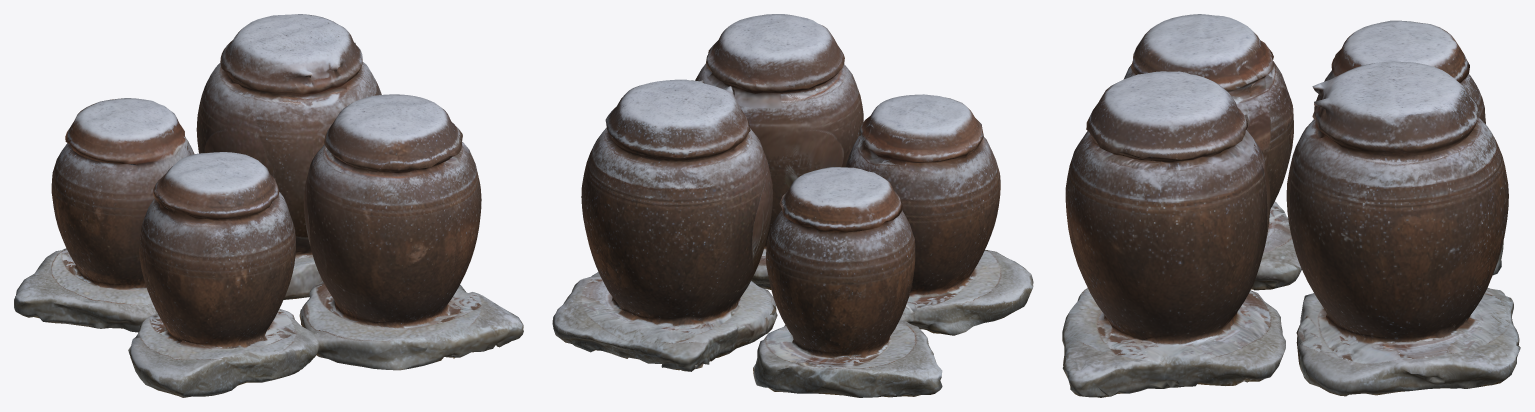
File: onggi.fbx
3 views of the same model, side by side, from view 1: azimuth 30°, elevation 25°; view 2: azimuth 150°, elevation 25°; view 3: azimuth 270°, elevation 25° (orthographic). The views are drawn at different scales.
Visible parts, largest first — view 1: texture_mapping; view 2: texture_mapping; view 3: texture_mapping.
Part boxes in pixels (x1,y1,x2,y2): texture_mapping: [14, 14, 523, 397]; texture_mapping: [552, 14, 1033, 397]; texture_mapping: [1062, 14, 1520, 397].
Bounding box in the file's own units: 0.994 × 0.9254 × 0.5905.
1 material, 1 textured.
